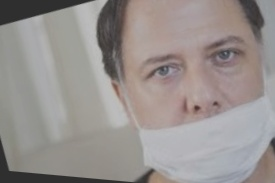mask_weared_incorrect: (122, 1, 275, 181)
